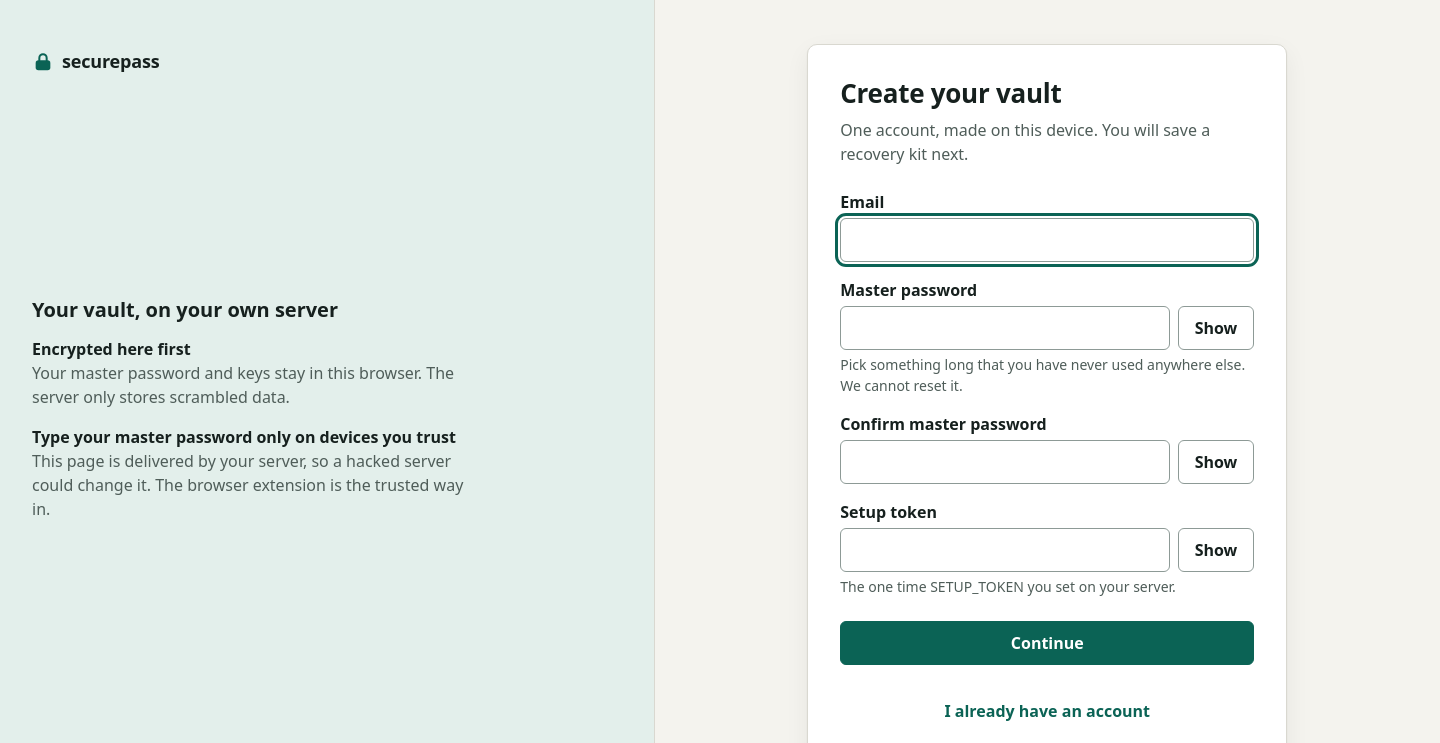
Test: App › moves between setup and sign in
This screenshot has width=1440, height=743.
Click the button "I already have an account" at (1047, 711), box top-left (840, 689), bottom-right (1254, 733)
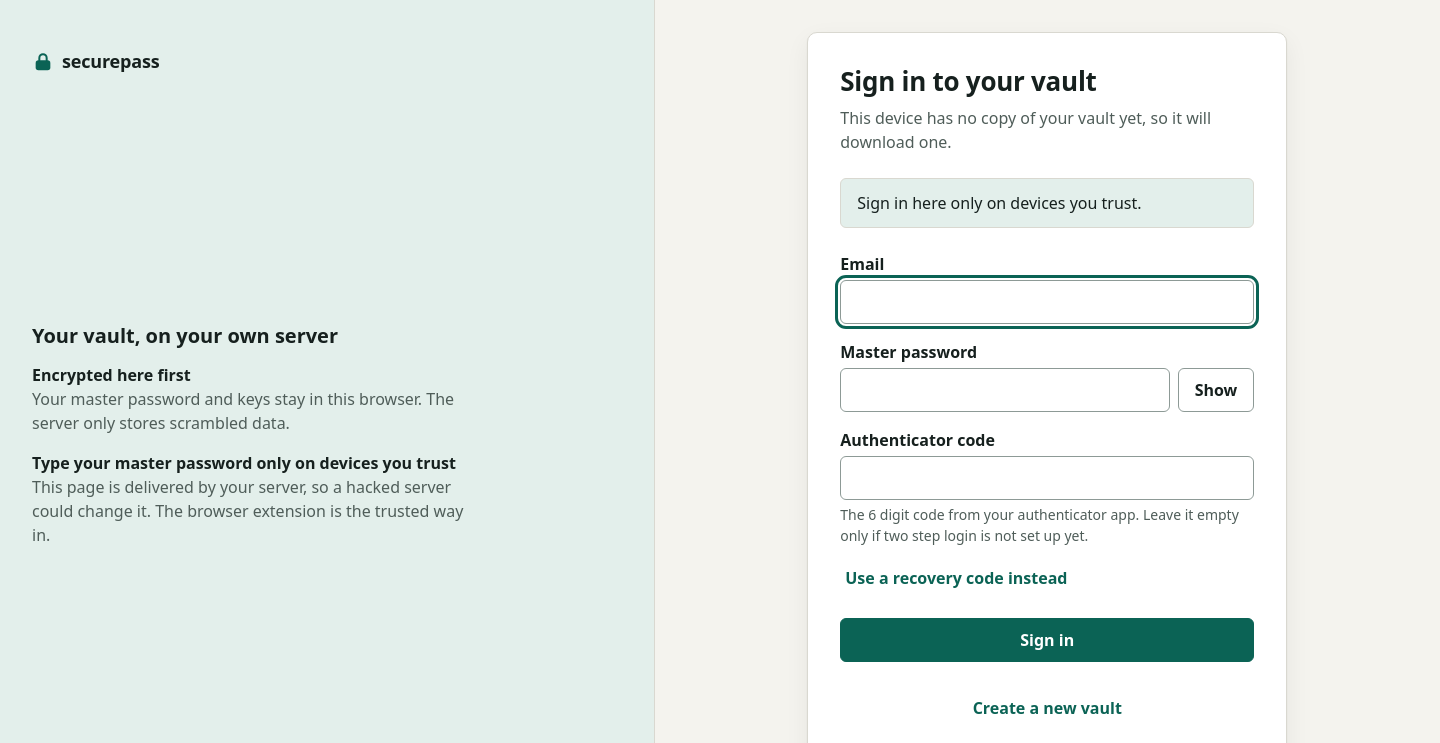
Now the heading "Sign in to your vault" is shown, box top-left (840, 63), bottom-right (1097, 99)
Click the button "Create a new vault" at (1047, 708), box top-left (840, 686), bottom-right (1254, 730)
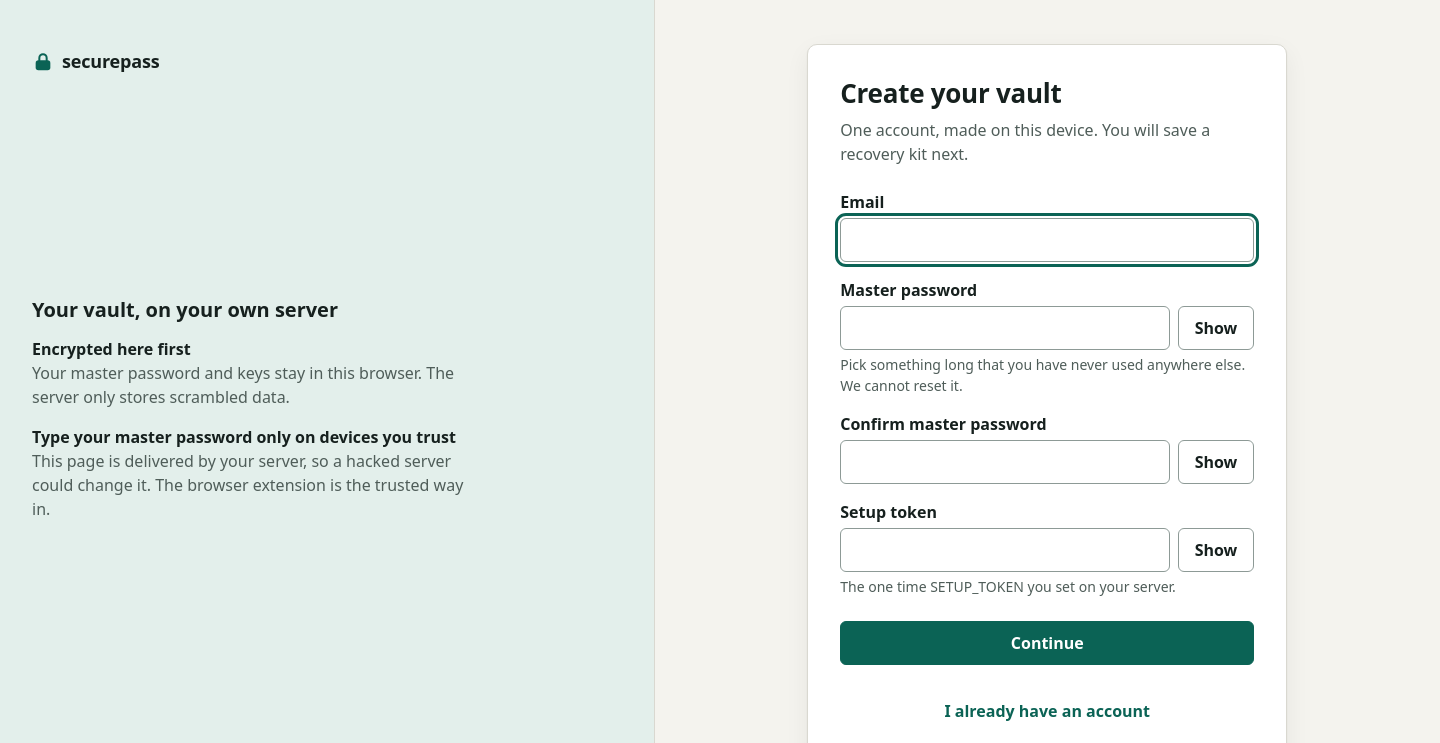
Now the heading "Create your vault" is shown, box top-left (840, 75), bottom-right (1062, 111)
